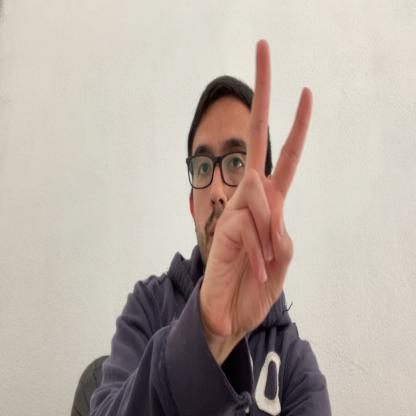V: (201, 38, 315, 343)
